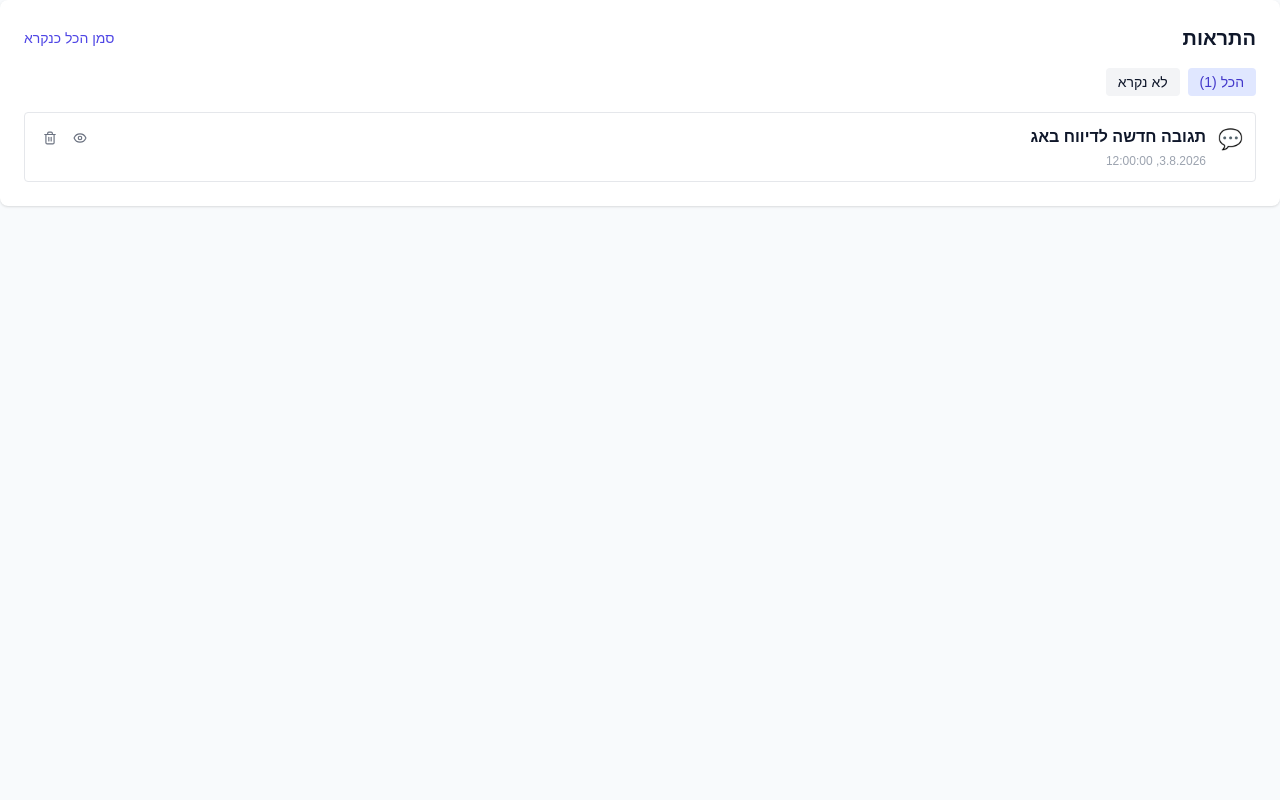
Test: NotificationsPage › opens the referenced bug report in the feedback modal instead of navigating
This screenshot has width=1280, height=800.
Click the button "תגובה חדשה לדיווח באג" at (1118, 137), box [1030,125,1206,149]
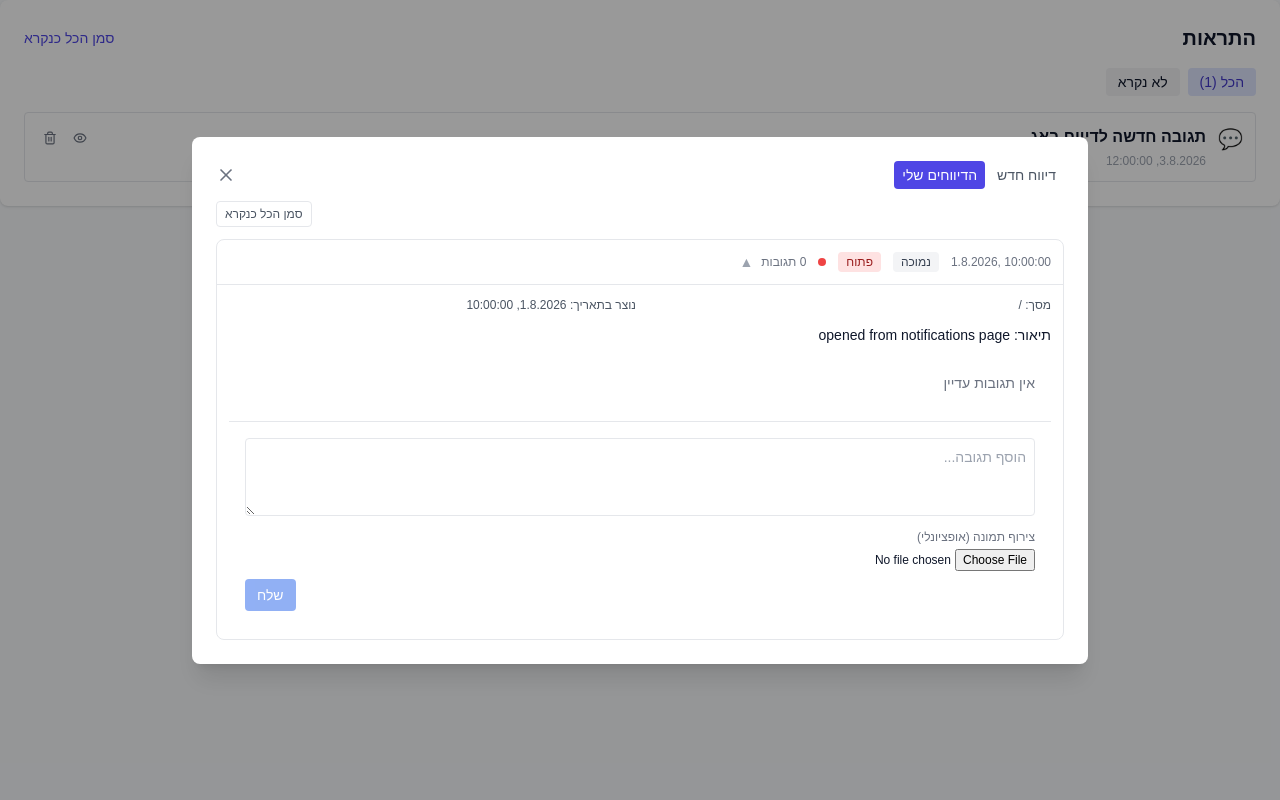
Check: the text "opened from notifications page" is shown, box [818,326,1010,342]
